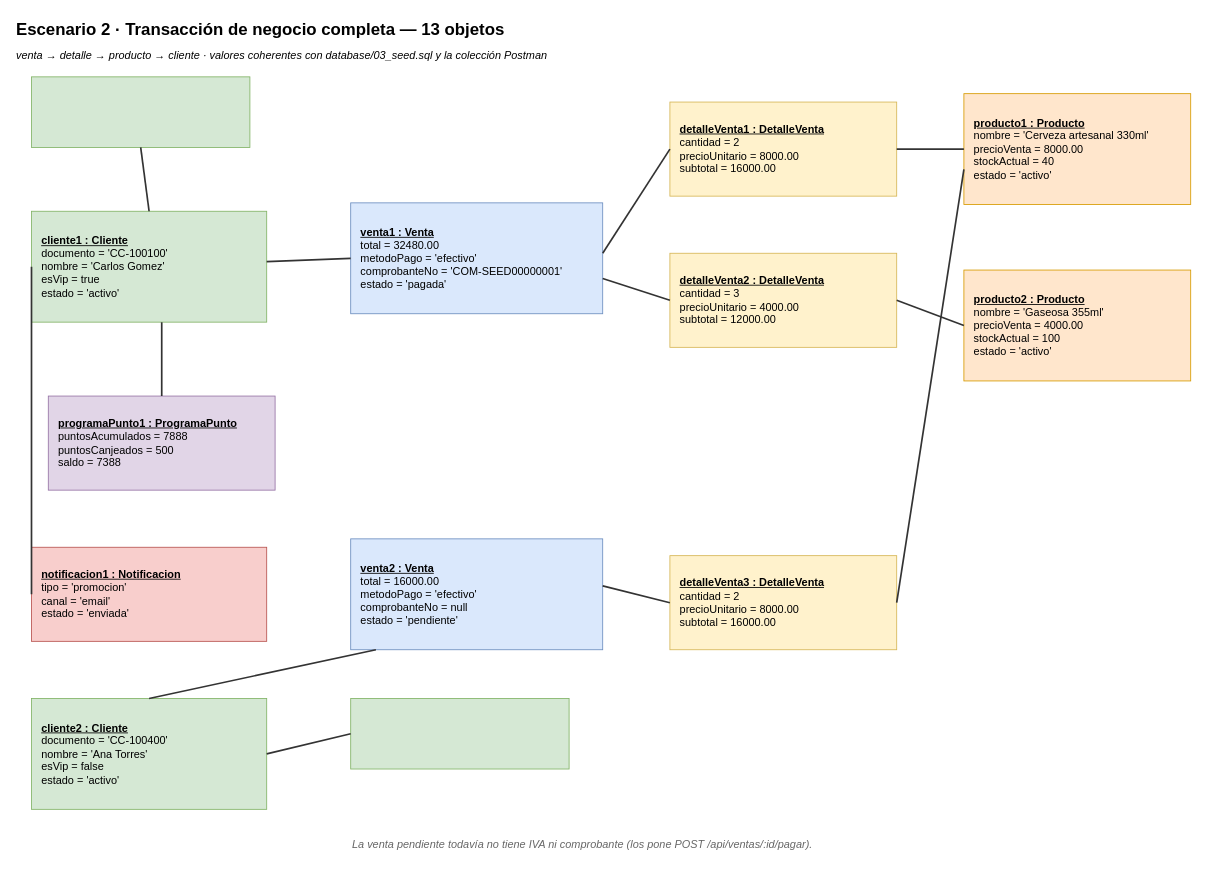
The diagram is 1205 pixels wide and 869 high, and some of its shapes have lost their labels. The shapes that lost their labels are listed below. From the top down, each one's centre as x and y in pixels, then its label:
At point (140, 111): "categoriaCliente1 : CategoriaCliente nombre = 'VIP' estado = 'activo'".
At point (459, 733): "categoriaCliente2 : CategoriaCliente nombre = 'General' estado = 'activo'".
